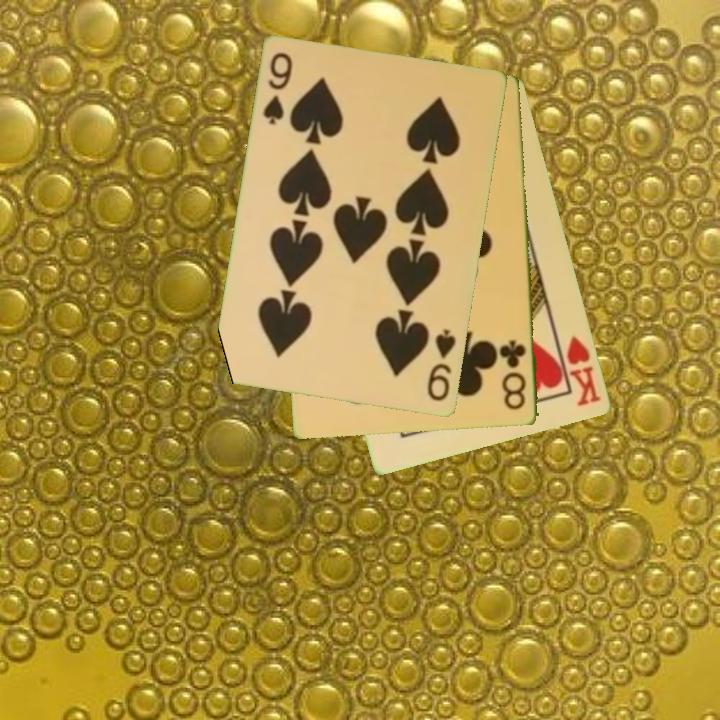8c: (497, 337, 530, 413)
9s: (260, 49, 296, 128), (424, 326, 459, 405)
Kh: (554, 331, 604, 410)
